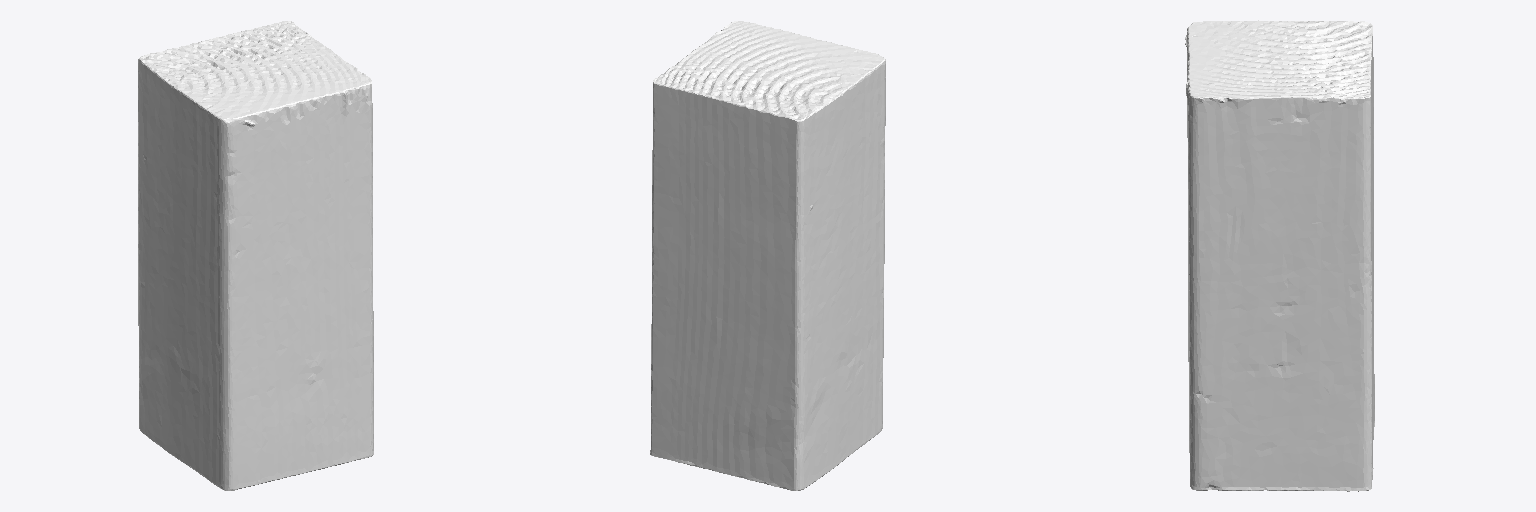
URDF robot description (sponge):
<robot name="sponge">
	<link name="base_link">
		<visual>
			<origin xyz="0.015842356573766914 -0.011520562220217976 -0.00937252508059704" rpy="0.0 0.0 0.0" />
			<geometry>
				<mesh filename="026_sponge/google_16k/textured.obj" scale="1 1 1" />
			</geometry>
			<material name="texture">
				<color rgba="1.0 1.0 1.0 1.0" />
			</material>
		</visual>
		<collision>
			<origin xyz="0.015842356573766914 -0.011520562220217976 -0.00937252508059704" rpy="0.0 0.0 0.0" />
			<geometry>
				<mesh filename="026_sponge/google_16k/textured_vhacd.obj" scale="1 1 1" />
			</geometry>
		</collision>
		<inertial>
			<mass value="0.0062" />
			<inertia ixx="1e-3" ixy="0.0" ixz="0.0" iyy="1e-3" iyz="0.0" izz="1e-3" />
		</inertial>
	</link>
</robot>

--- Facts derived from the render (not from the file) ---
Views: 3 orthographic renders of the robot side by side, from view 1: azimuth 30°, elevation 25°; view 2: azimuth 150°, elevation 25°; view 3: azimuth 270°, elevation 25°.
Model sponge with 1 links and 0 joints (none), rooted at base_link, posed all joints at 0.
Links seen in each view (by area): view 1: base_link; view 2: base_link; view 3: base_link.
Boxes of the visible links, box(x1,y1,x2,y2) form: base_link: box(138, 21, 373, 490); base_link: box(650, 21, 885, 490); base_link: box(1185, 20, 1374, 491).
Size in the robot's own frame: 0.0906 by 0.0899 by 0.206 metres.
1 mesh visuals loaded from 1 distinct referenced files (1 OBJ).